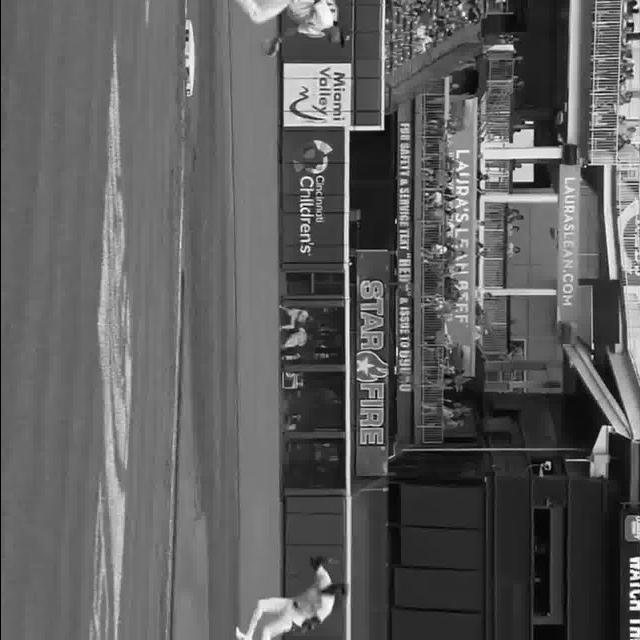base: (178, 21, 196, 92)
baseball_glove: (260, 33, 279, 59)
shoe: (230, 629, 249, 640)
